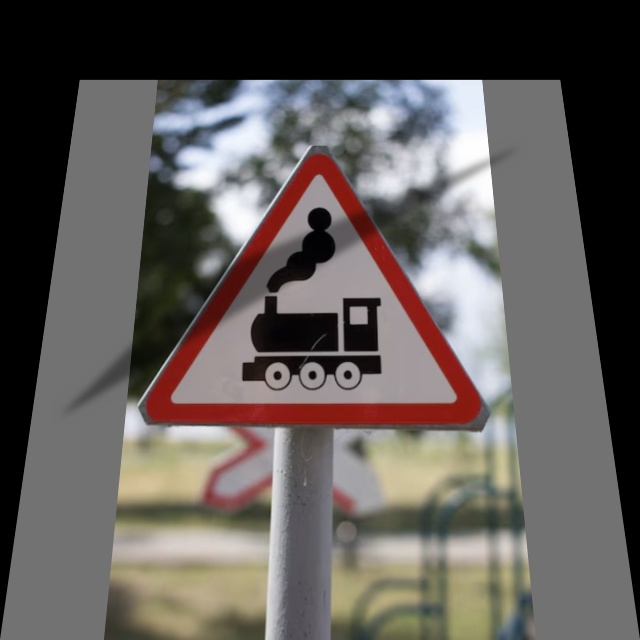Unguarded_Level_Crossing: (152, 140, 482, 431)
